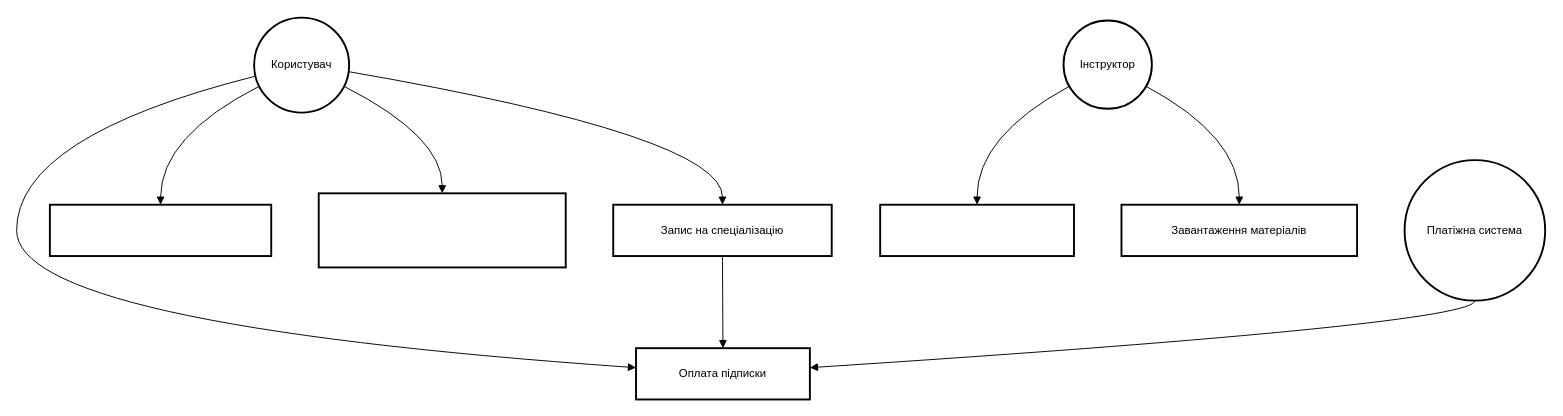
Some shapes in this 1563 by 416 pixel diagram are drawn without their labels. The shapes that lost their labels are listed below. From the top down, each one's centre as x and y in pixels, then its label:
At point (160, 229): "Перегляд спеціалізацій".
At point (441, 230): "Перегляд деталей спеціалізації".
At point (976, 229): "Керування курсами".
